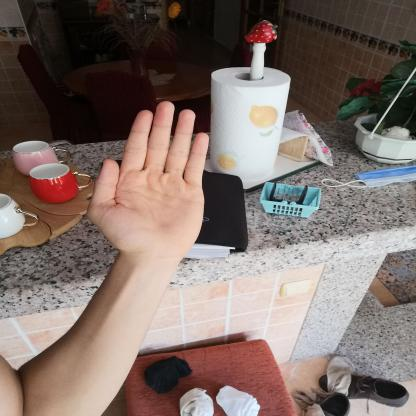SEEN: (76, 91, 215, 268)
